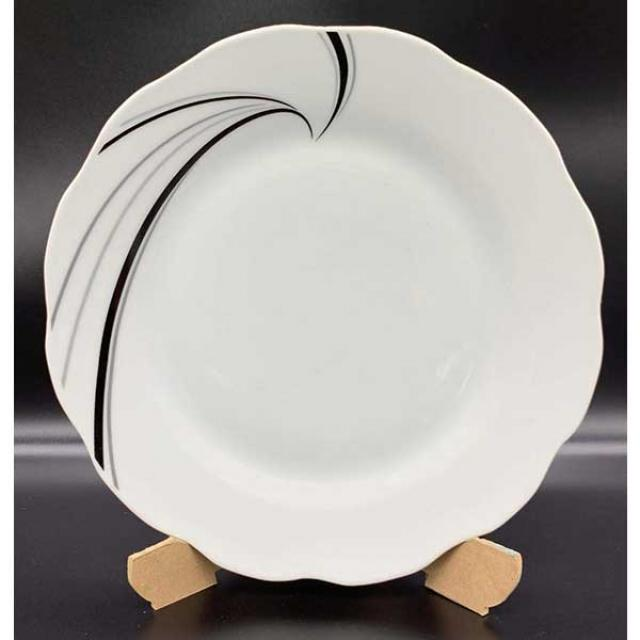non-organic waste: (34, 21, 622, 603)
